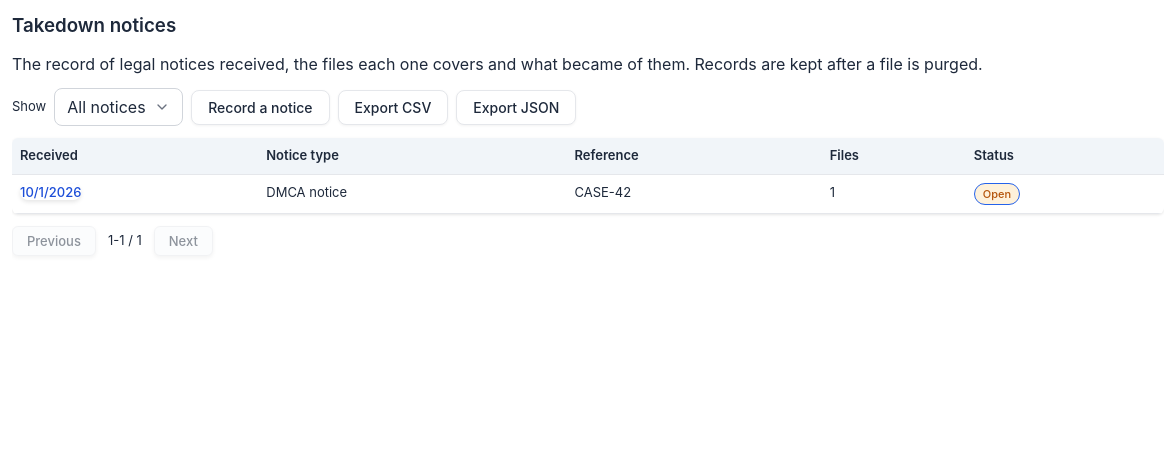
Test: TakedownNoticesPanel › lists notices with their derived status, and expands one to show its basis and files
Expected: the text "CASE-42" is shown, [566,174,822,214]
Expected: the text "internal legal basis text" is not shown
What coordinates should you click on to do the following:
click the button "10/1/2026"
I would click on:
 (51, 192)
Its box is [20,184,81,200].
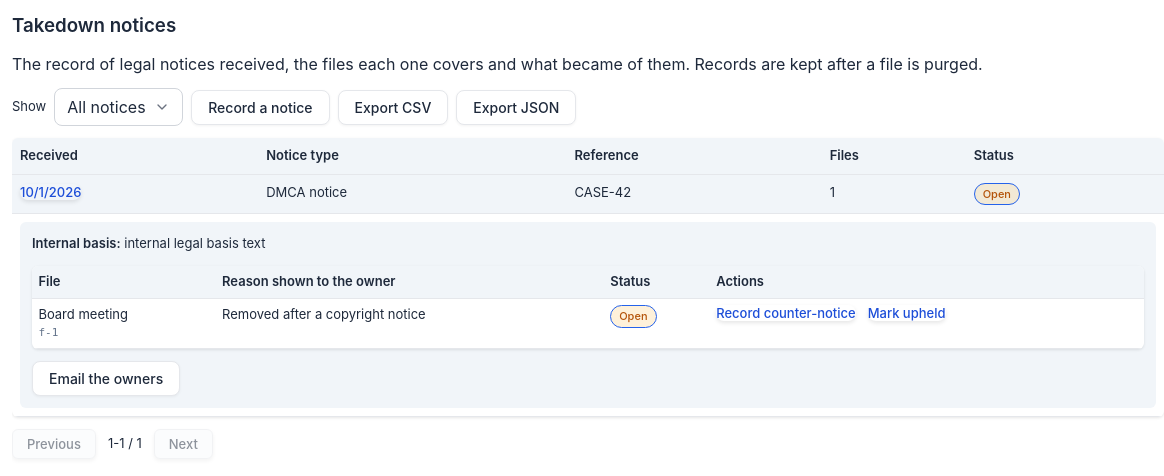
Now the text "Internal basis: internal legal basis text" is shown, box [32,235,265,251]
Now the text "Board meeting" is shown, box [38,306,128,322]
Now the text "Removed after a copyright notice" is shown, box [216,298,604,348]
